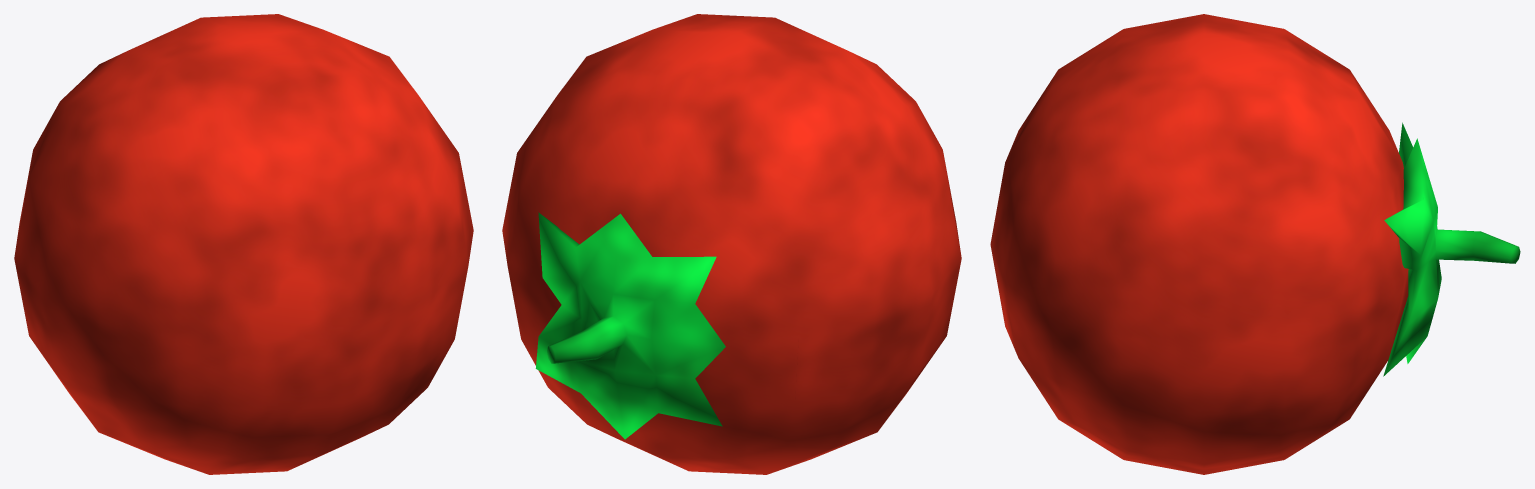
The model's file is Tomato.fbx.
3 views of the same model, side by side, from view 1: azimuth 30°, elevation 25°; view 2: azimuth 150°, elevation 25°; view 3: azimuth 270°, elevation 25° (orthographic).
Parts seen in each view (by area): view 1: Tomato; view 2: Tomato; view 3: Tomato.
Boxes of the visible parts, x1,y1,x2,y2 form: Tomato: [14, 14, 473, 474]; Tomato: [502, 14, 961, 474]; Tomato: [990, 14, 1520, 474].
Size of the model in its own units: 0.5248 by 0.5248 by 0.6105.
1 material, 1 textured.
